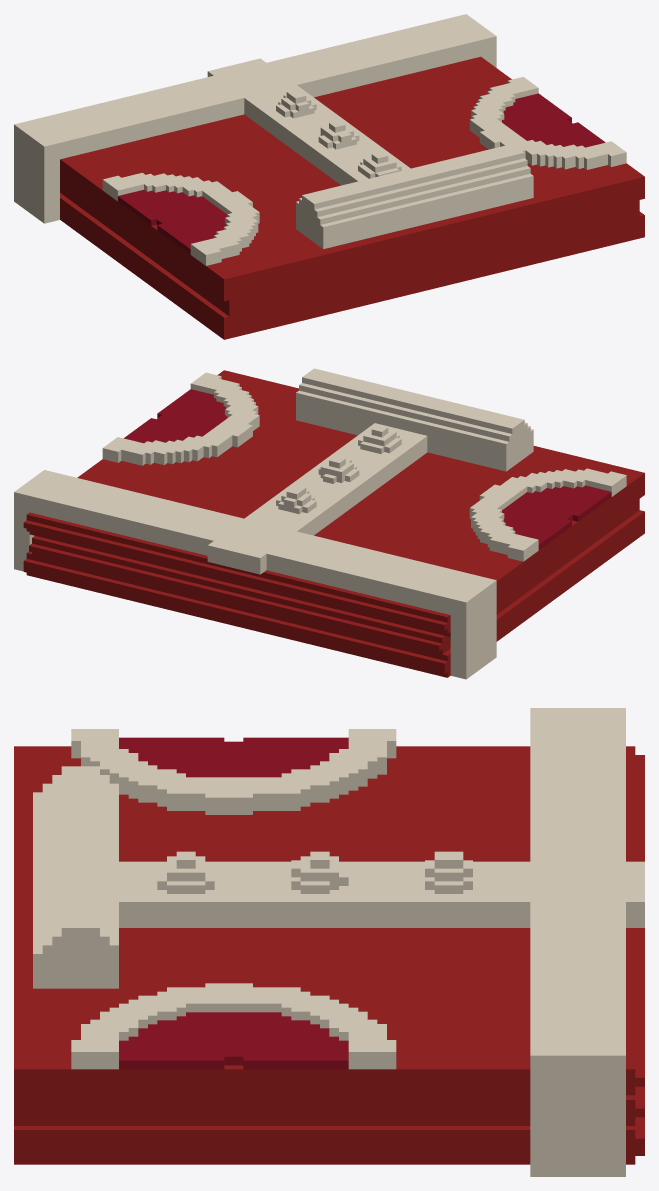
File: santa_jacket_short.glb
The picture shows the model from 3 angles, top to bottom: view 1: azimuth 30°, elevation 25°; view 2: azimuth 150°, elevation 25°; view 3: azimuth 270°, elevation 25°; orthographic projection. The views are drawn at different scales.
Parts seen in each view (by area): view 1: santa_jacket_short:compound; view 2: santa_jacket_short:compound; view 3: santa_jacket_short:compound.
Boxes of the visible parts, box(x1,y1,x2,y2) form: santa_jacket_short:compound: box(14, 14, 644, 339); santa_jacket_short:compound: box(14, 368, 644, 679); santa_jacket_short:compound: box(14, 708, 644, 1176).
Bounding box in the file's own units: 0.344 × 0.072 × 0.264.
